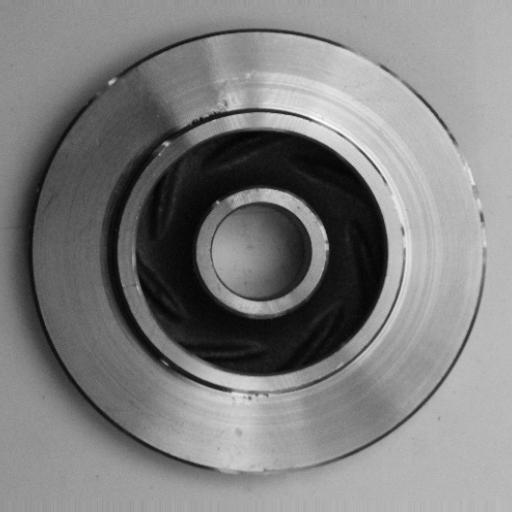crack: (220, 376, 281, 414)
scratch: (453, 145, 496, 268), (380, 180, 420, 265), (142, 128, 176, 169)
unpolished_casting: (30, 26, 488, 479)
